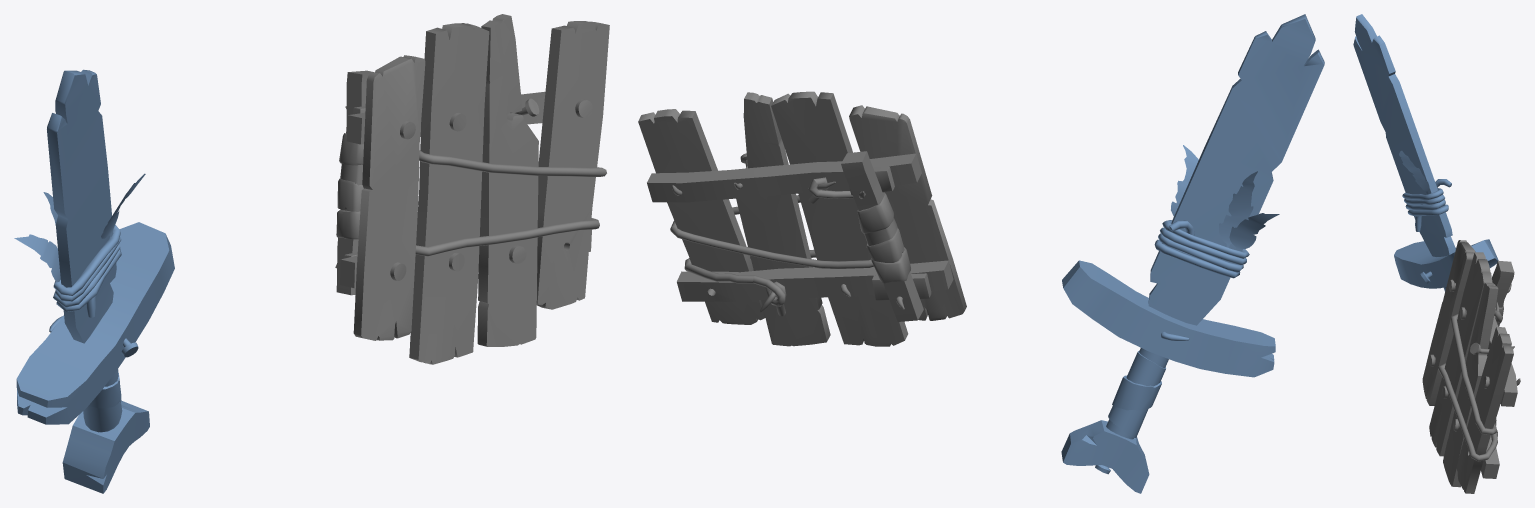
Rendered from Espada y Escudo.fbx.
3 renders of one model, left to right at view 1: azimuth 30°, elevation 25°; view 2: azimuth 150°, elevation 25°; view 3: azimuth 270°, elevation 25°, orthographic. The views are drawn at different scales.
Parts seen in each view (by area): view 1: ShieldOfNoviceHero, SwordOfNoviceHero; view 2: ShieldOfNoviceHero, SwordOfNoviceHero; view 3: ShieldOfNoviceHero, SwordOfNoviceHero.
Part boxes in pixels (box(x1,y1,x2,y2)): ShieldOfNoviceHero: box(335, 14, 609, 364); SwordOfNoviceHero: box(14, 69, 174, 493); ShieldOfNoviceHero: box(638, 91, 966, 346); SwordOfNoviceHero: box(1061, 14, 1324, 493); ShieldOfNoviceHero: box(1422, 240, 1520, 493); SwordOfNoviceHero: box(1353, 14, 1498, 291).
Size of the model in its own units: 139 by 99.86 by 44.99.
